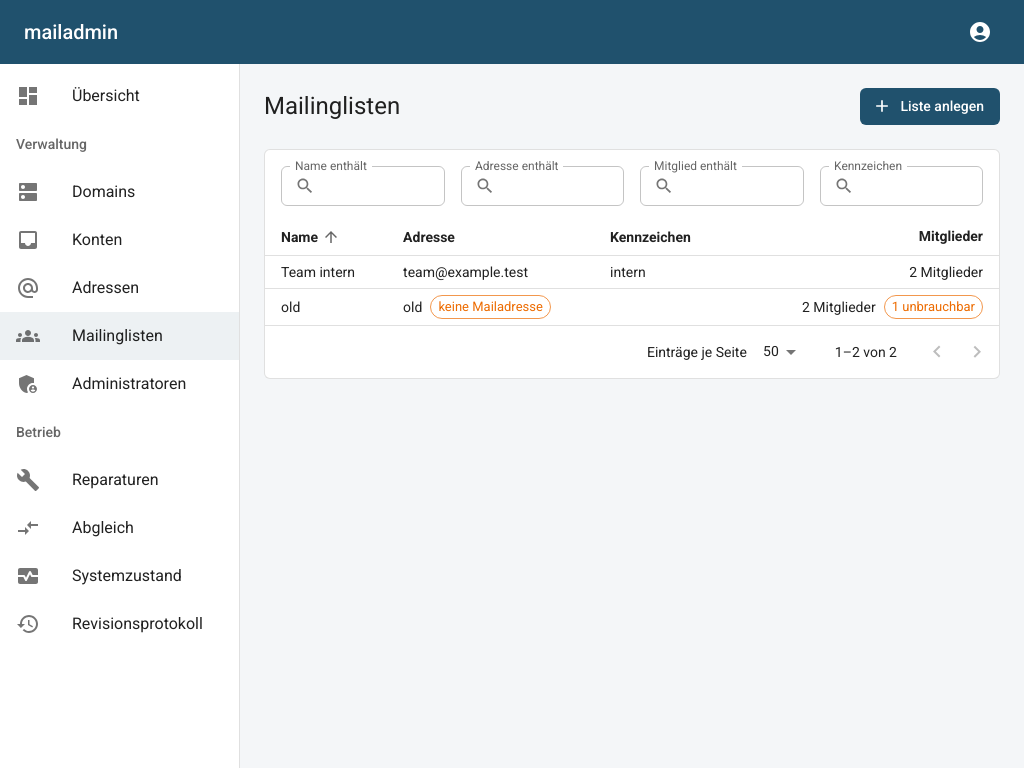
the mailing list list › says when the address is taken
Click the button "Liste anlegen": (930, 106) x1=860 y1=88 x2=1000 y2=124
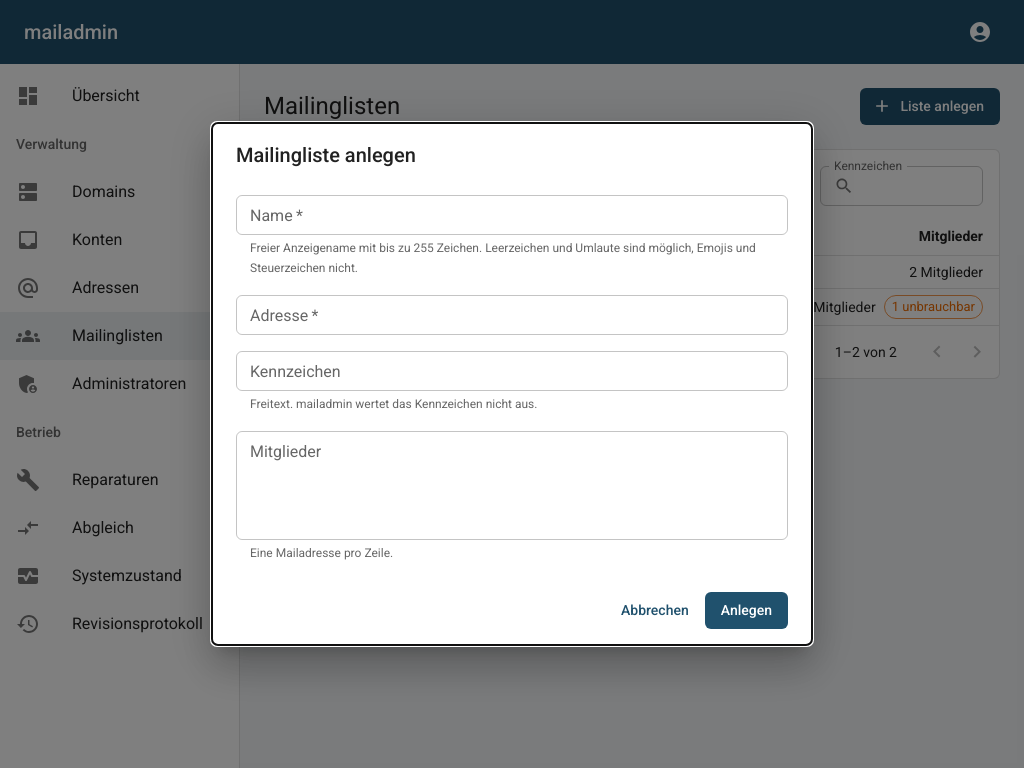
In the field labelled "Name *": (512, 215) x1=236 y1=195 x2=788 y2=235, type "Team"
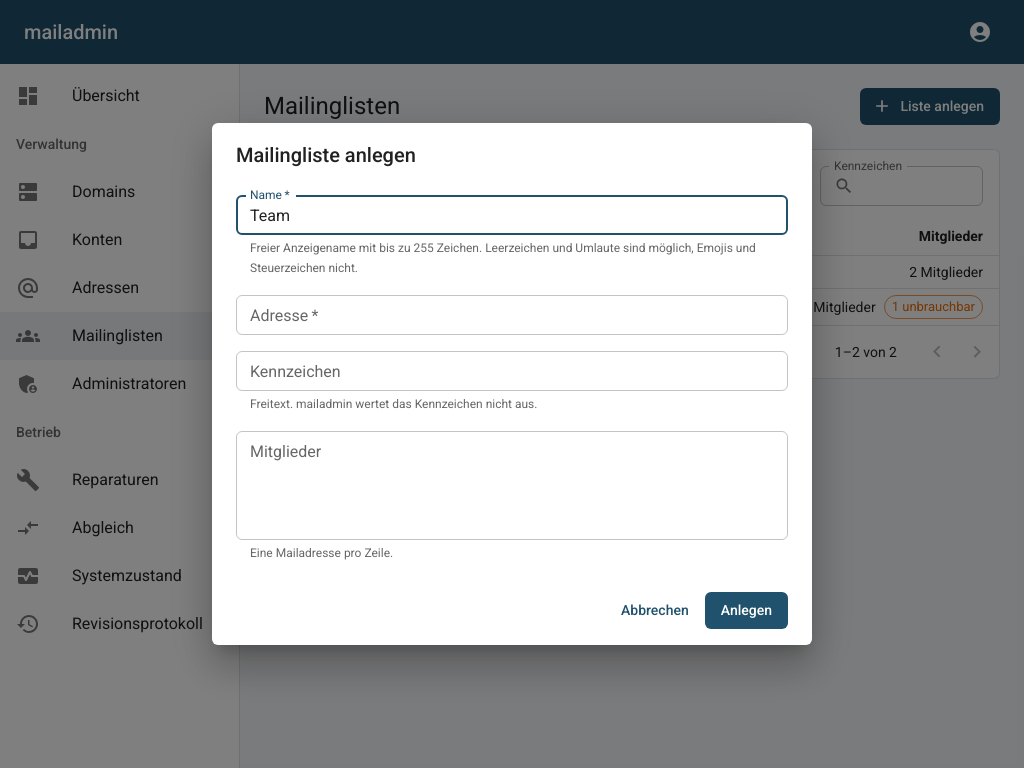
In the field labelled "Adresse *": (512, 315) x1=236 y1=295 x2=788 y2=335, type "team@example.test"
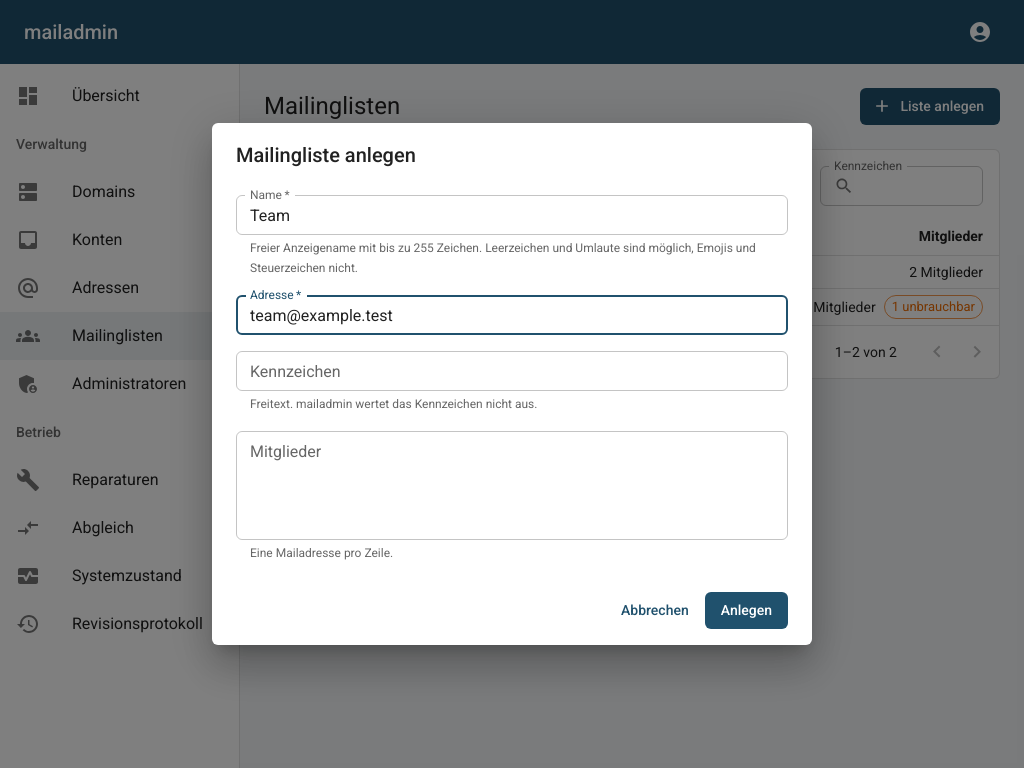
Click the button "Anlegen": (746, 610) x1=705 y1=592 x2=788 y2=629
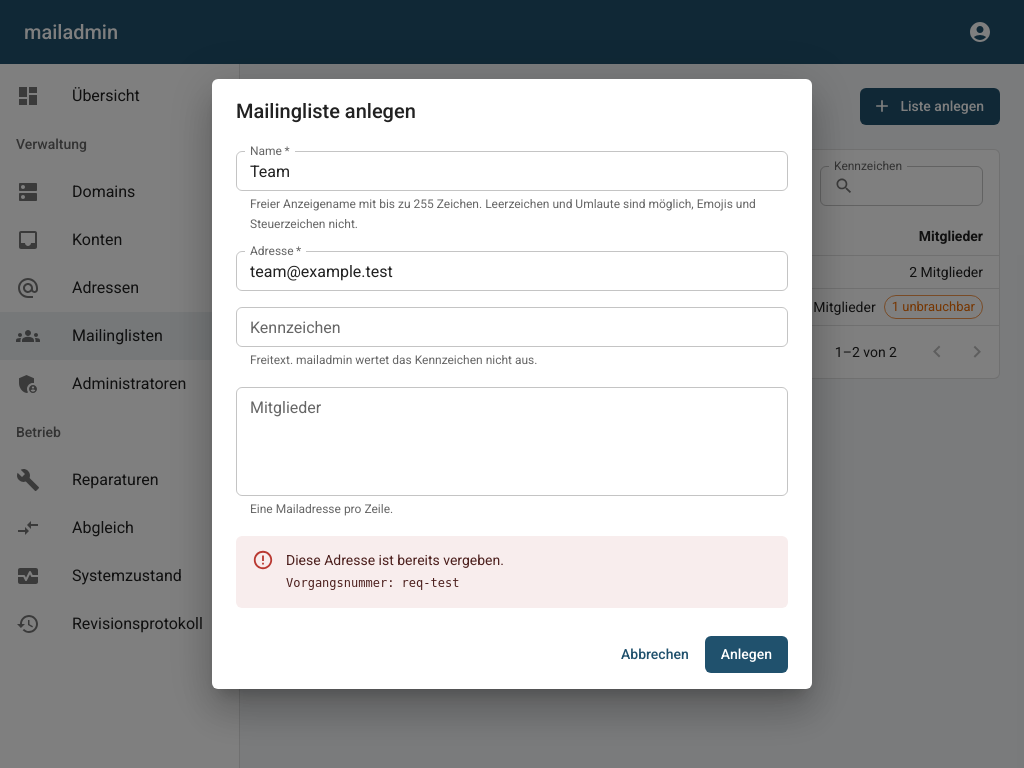
Expected: the text "Diese Adresse ist bereits vergeben." is shown, x1=286 y1=550 x2=504 y2=570
